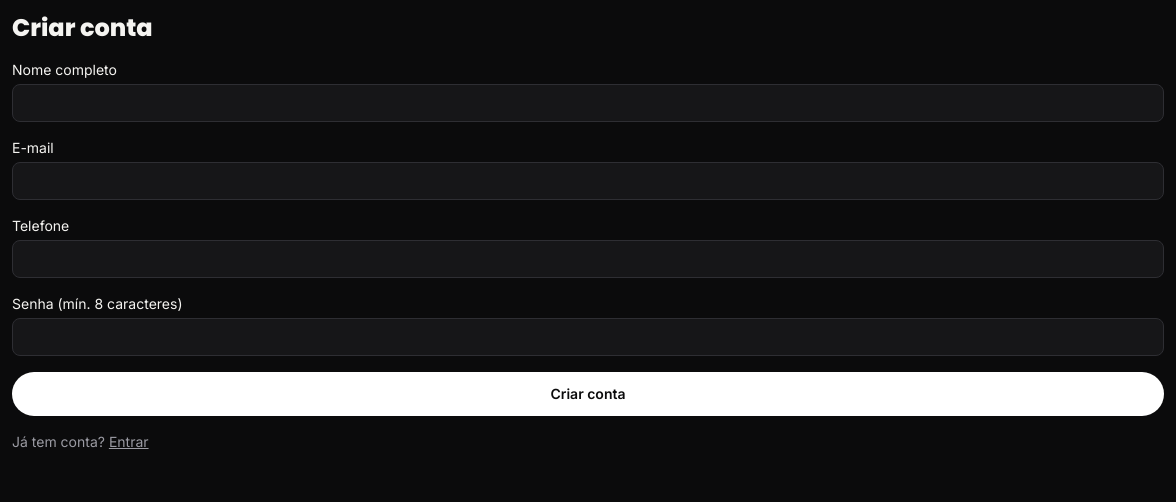
SignupForm › 409 email-already-taken mostra mensagem
Type "João" into the field labelled "Nome completo".
click(588, 103); type("João")  # box [12, 84, 1164, 122]
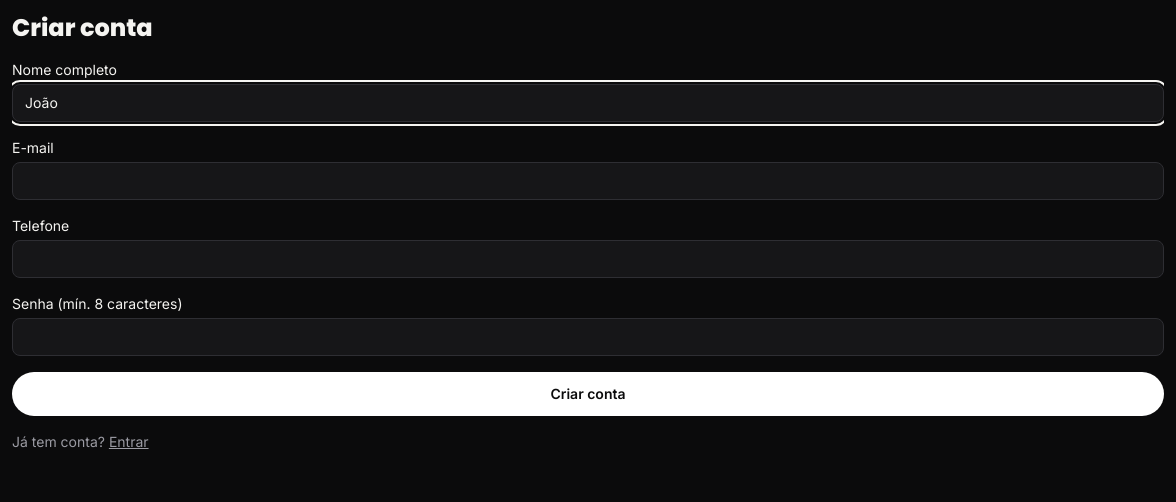
Type "dup@e.com" into the field labelled "E-mail".
click(588, 181); type("dup@e.com")  # box [12, 162, 1164, 200]
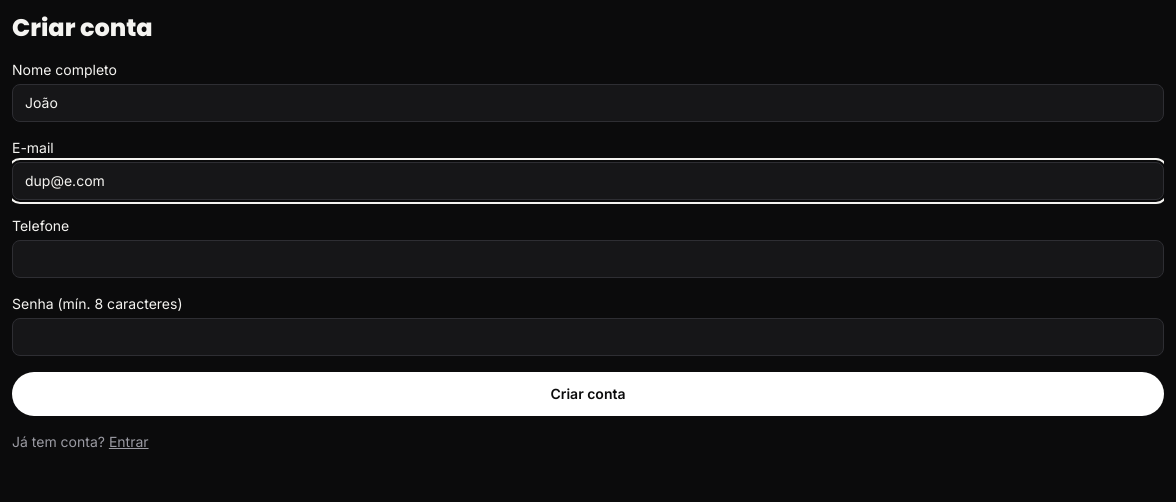
Type "(21) 99999-0000" into the field labelled "Telefone".
click(588, 259); type("(21) 99999-0000")  # box [12, 240, 1164, 278]
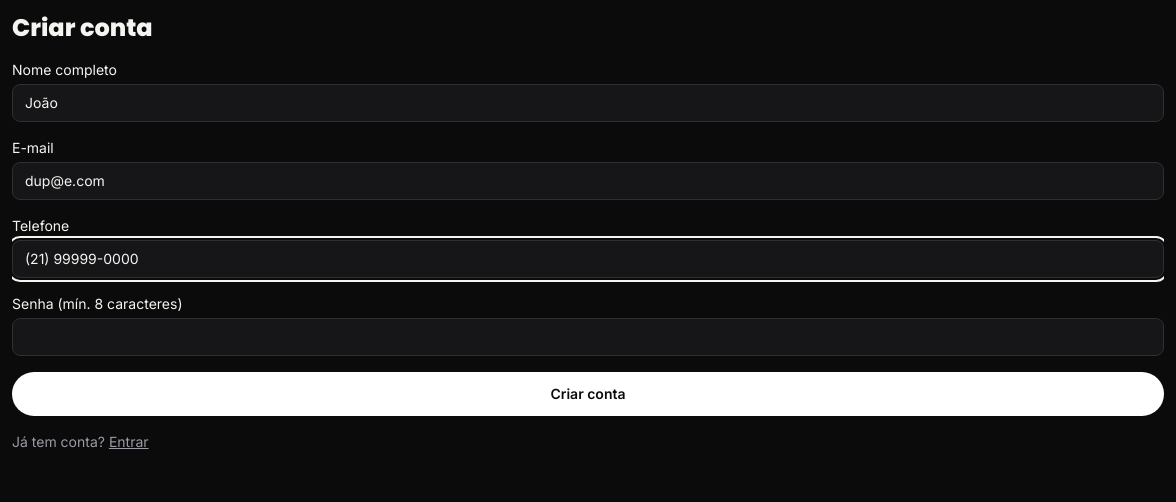
Type "senha12345" into the password field labelled "Senha (mín. 8 caracteres)".
click(588, 337); type("senha12345")  # box [12, 318, 1164, 356]
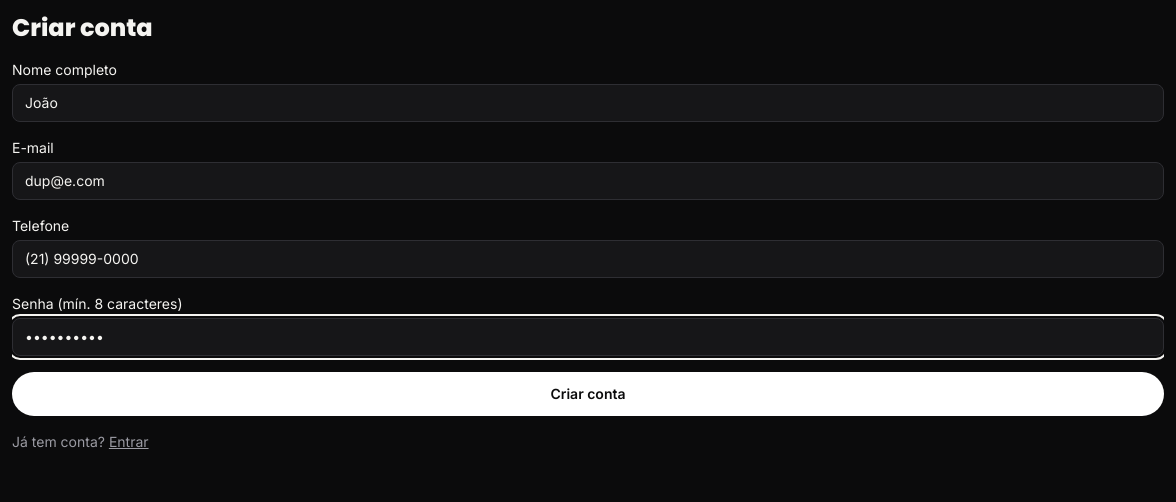
Click the button "Criar conta".
click(588, 394)  # box [12, 372, 1164, 416]
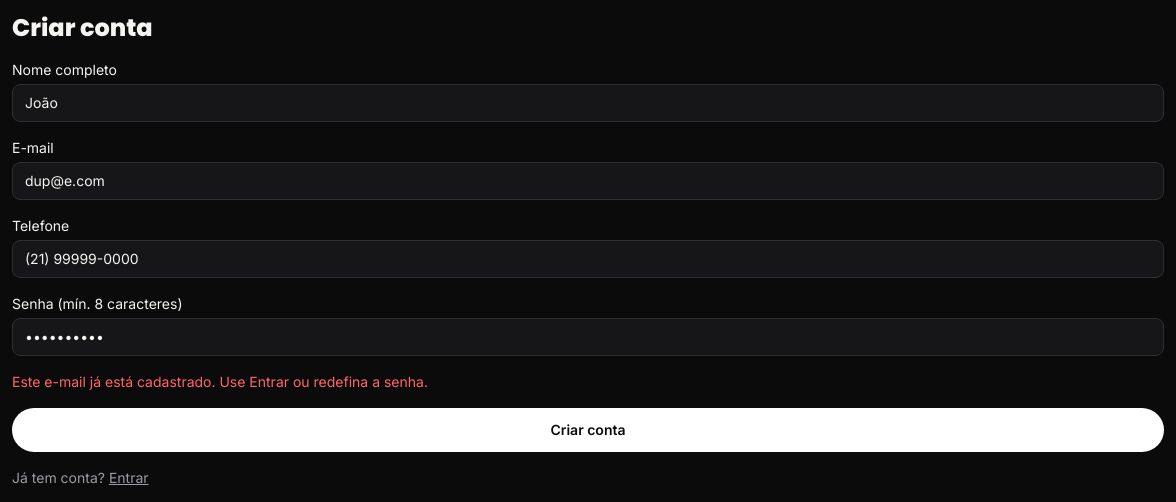
Check: the message shows "já está cadastrado", box [12, 373, 428, 390]
